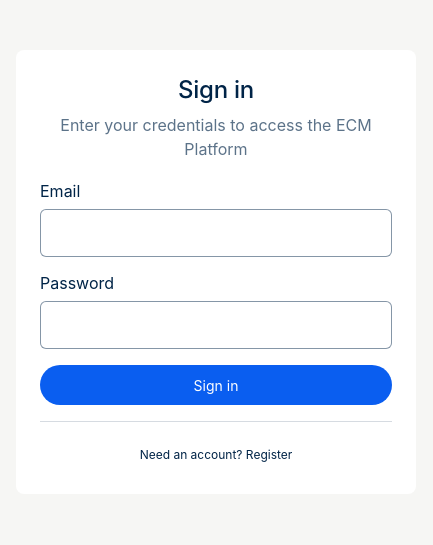
LoginPage › switches to registration mode
Click the button "Need an account? Register".
click(216, 454)  # box [40,438,392,470]
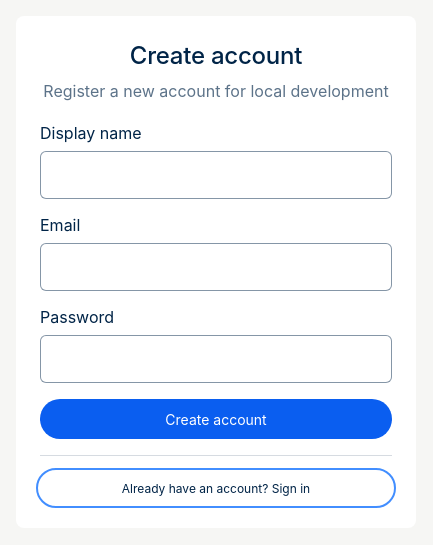
Expected: the heading "Create account" is shown, [130,41,302,70]
Expected: the field labelled "Display name" is shown, [40,151,392,199]
Expected: the button "Create account" is shown, [40,399,392,439]
